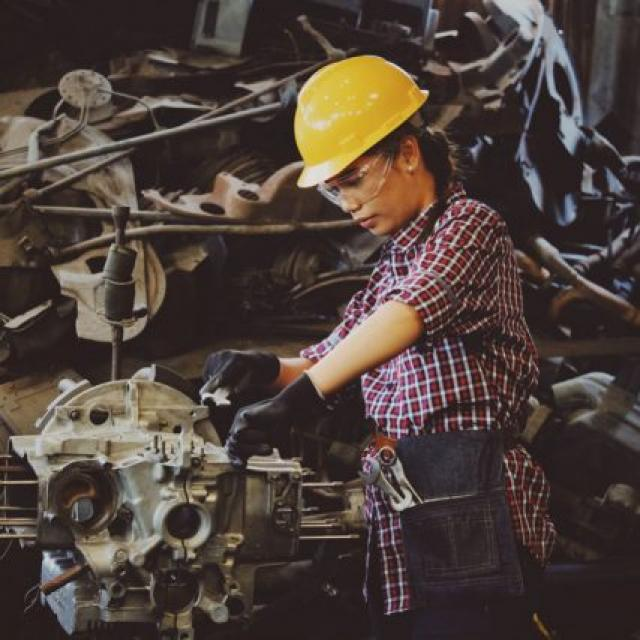Boots: (218, 364, 329, 470), (202, 340, 282, 390)
